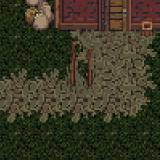Interaction: (63, 50, 96, 88)
Obstacle: (16, 0, 160, 70)
